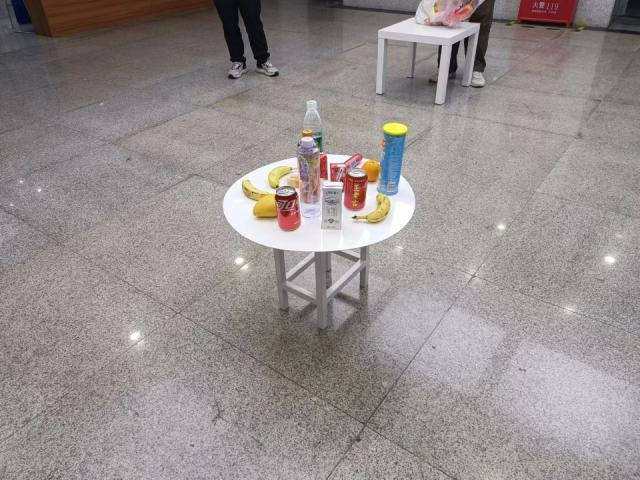Canned_drinks: (274, 185, 302, 233), (345, 168, 368, 210)
bottle: (296, 137, 324, 218), (302, 100, 326, 159)
cylinder: (378, 122, 407, 194)
drink_box: (320, 181, 344, 231), (328, 162, 347, 192), (317, 152, 329, 181)
